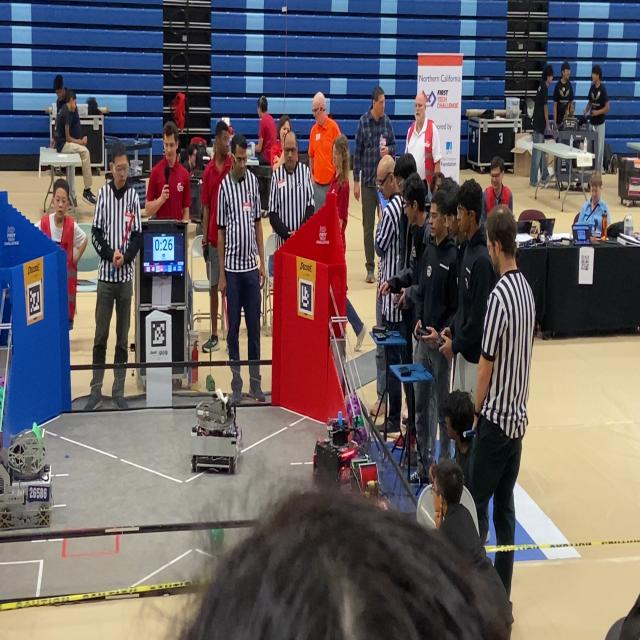artifact_green: (210, 529, 224, 551), (206, 375, 215, 393)
